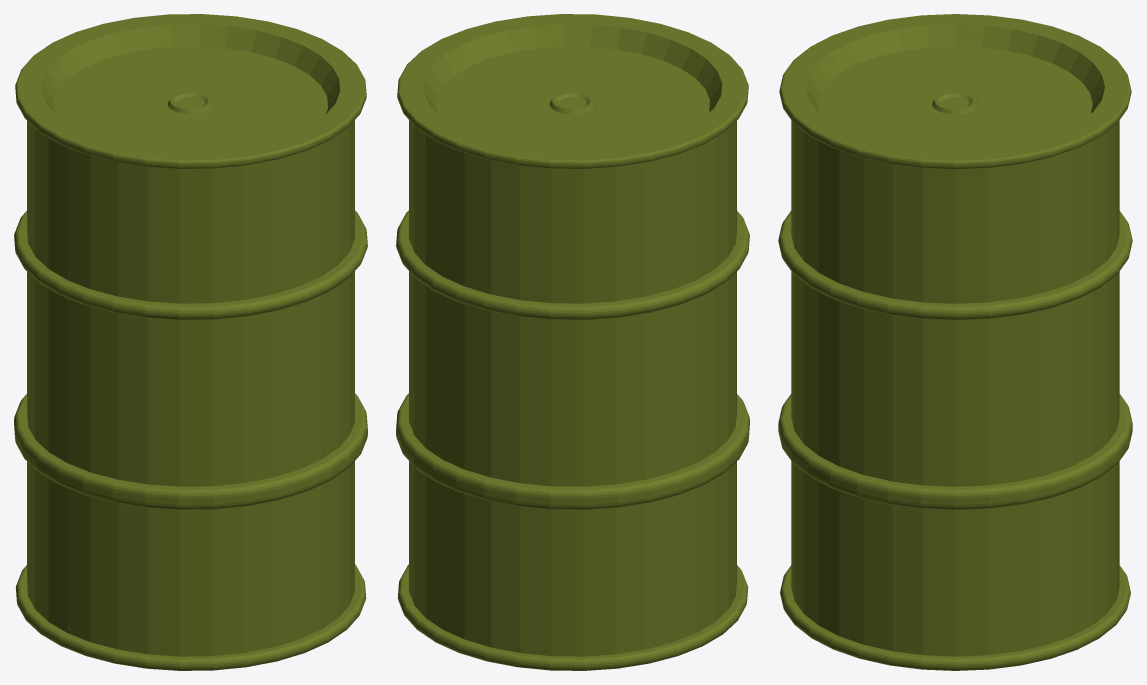
Rendered from Barrel.fbx.
The picture shows the model from 3 angles, left to right: view 1: azimuth 30°, elevation 25°; view 2: azimuth 150°, elevation 25°; view 3: azimuth 270°, elevation 25°; orthographic projection.
Visible parts, largest first — view 1: Barrel; view 2: Barrel; view 3: Barrel.
Boxes of the visible parts, bbox=[...] form: Barrel: bbox=[14, 14, 367, 670]; Barrel: bbox=[396, 14, 749, 670]; Barrel: bbox=[778, 14, 1132, 670].
Bounding box in the file's own units: 216 × 343 × 216.
